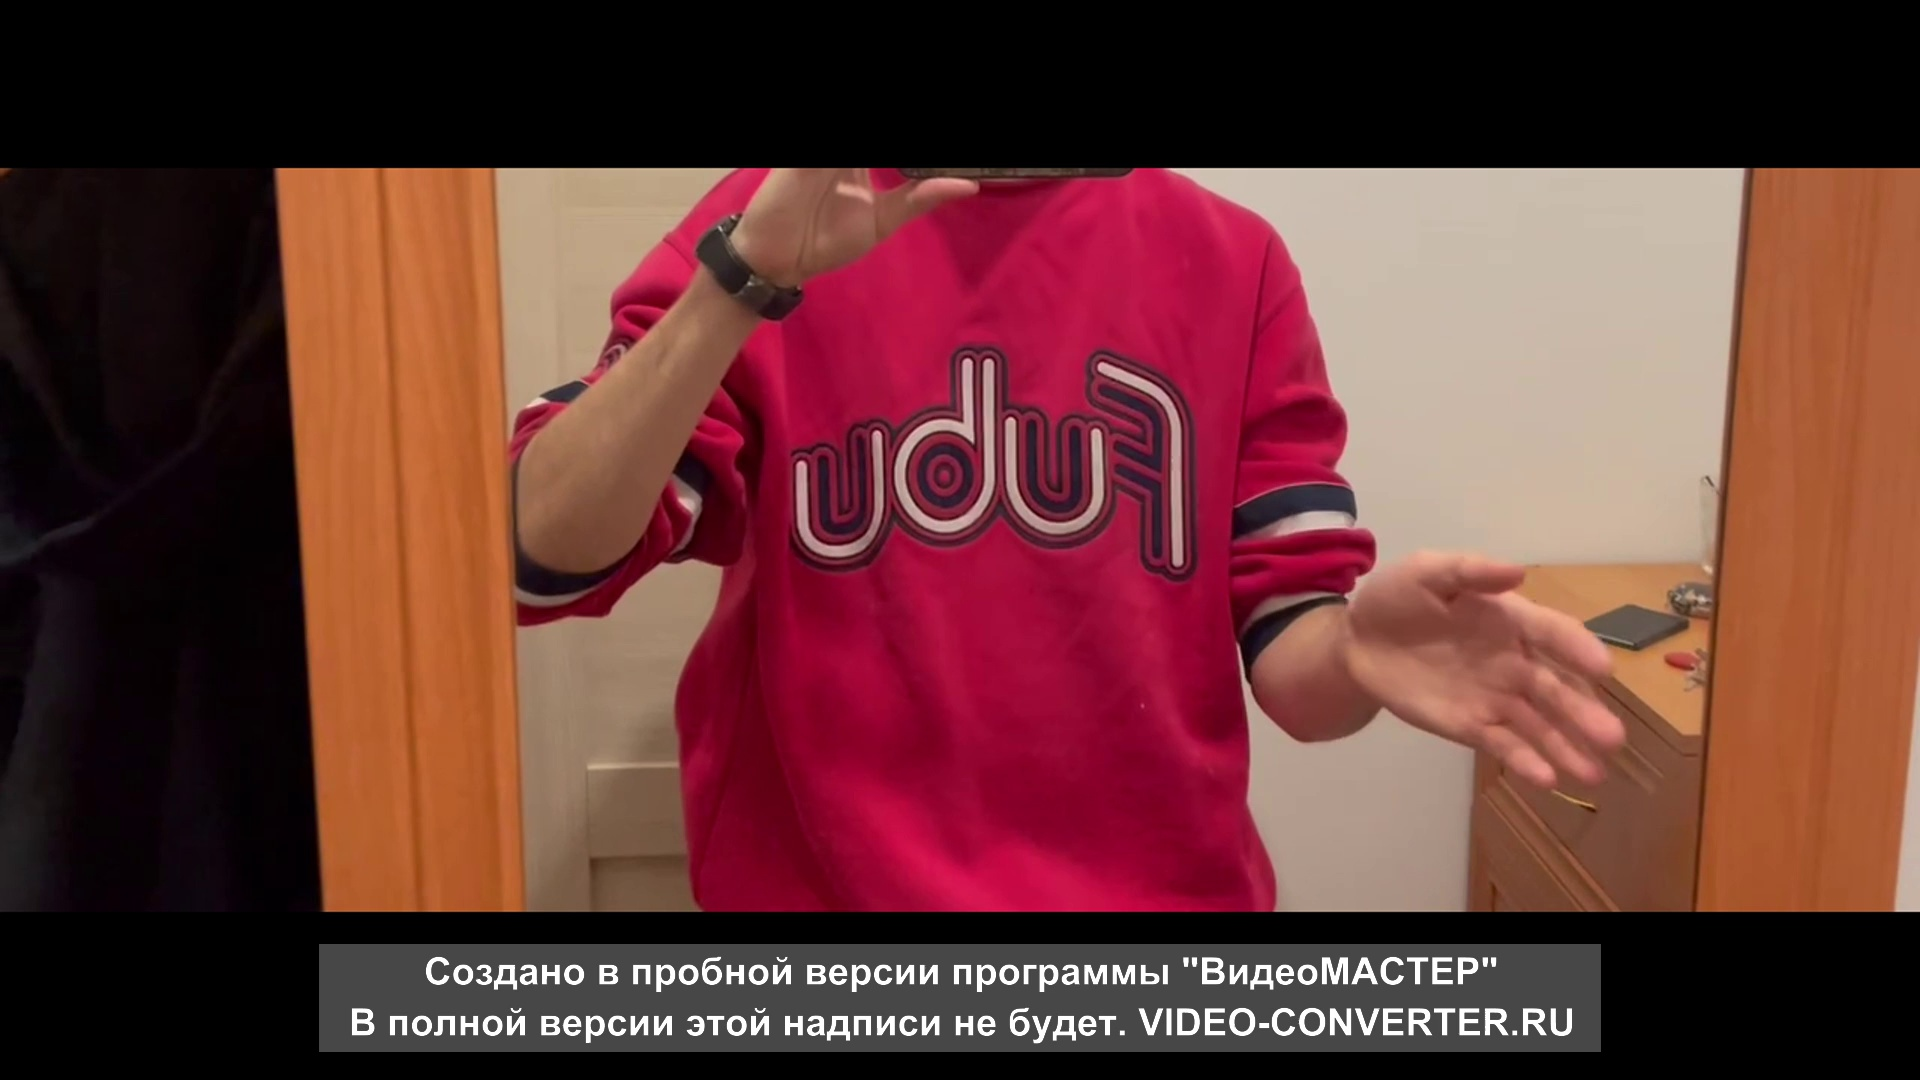Ладонь: (1349, 550, 1626, 791)
